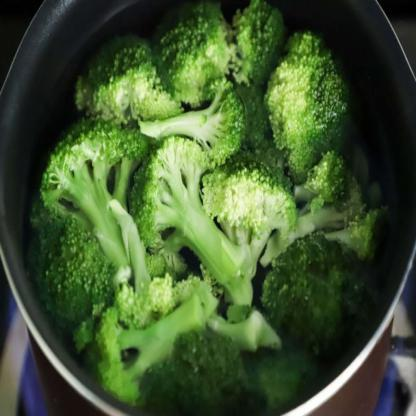broccoli: (24, 0, 388, 415)
